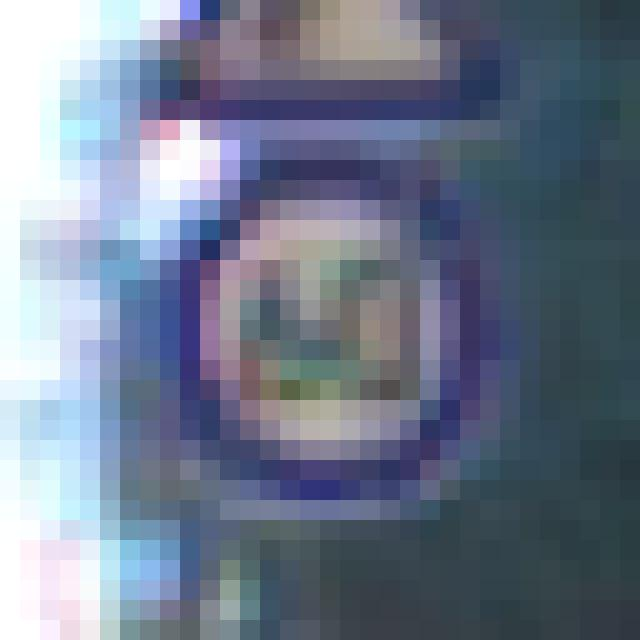SPEED-LIMIT-60: (144, 148, 523, 519)
